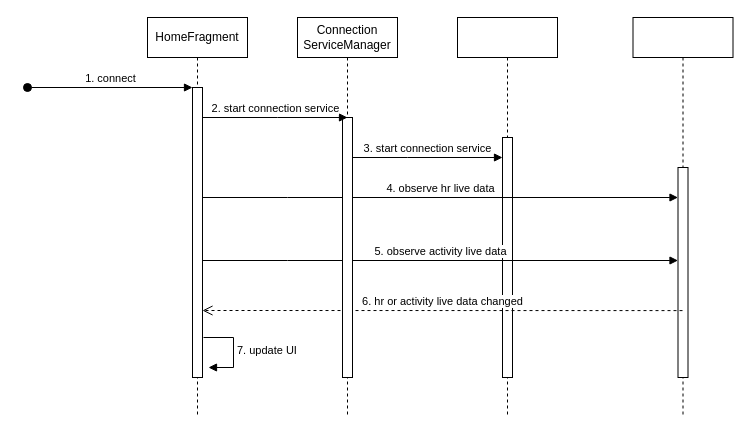
The diagram is 751 pixels wide and 435 high, and some of its shapes have lost their labels. The box of each missing label's shape, as (x1, y1, x2, y2) in pixels:
Connection Service: (456, 16, 558, 418)
HrViewModel: (632, 16, 733, 418)
